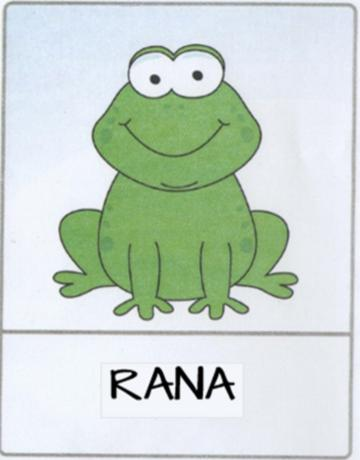rana: (4, 1, 360, 460)
